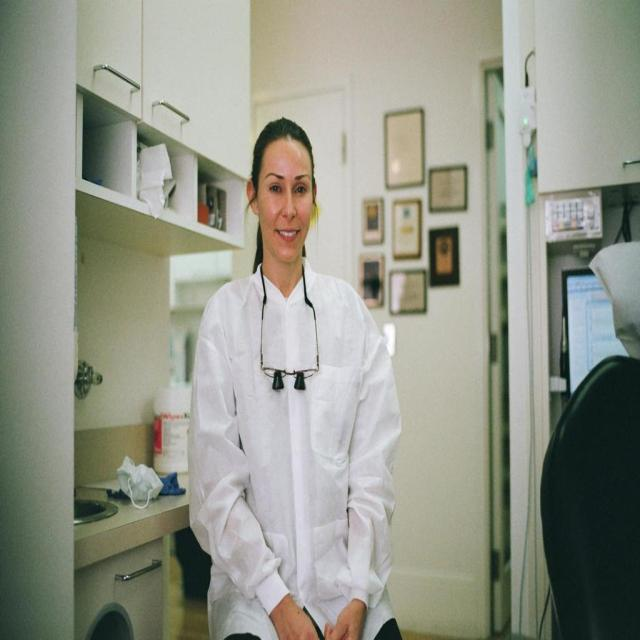no_helmet: (246, 175, 316, 218)
